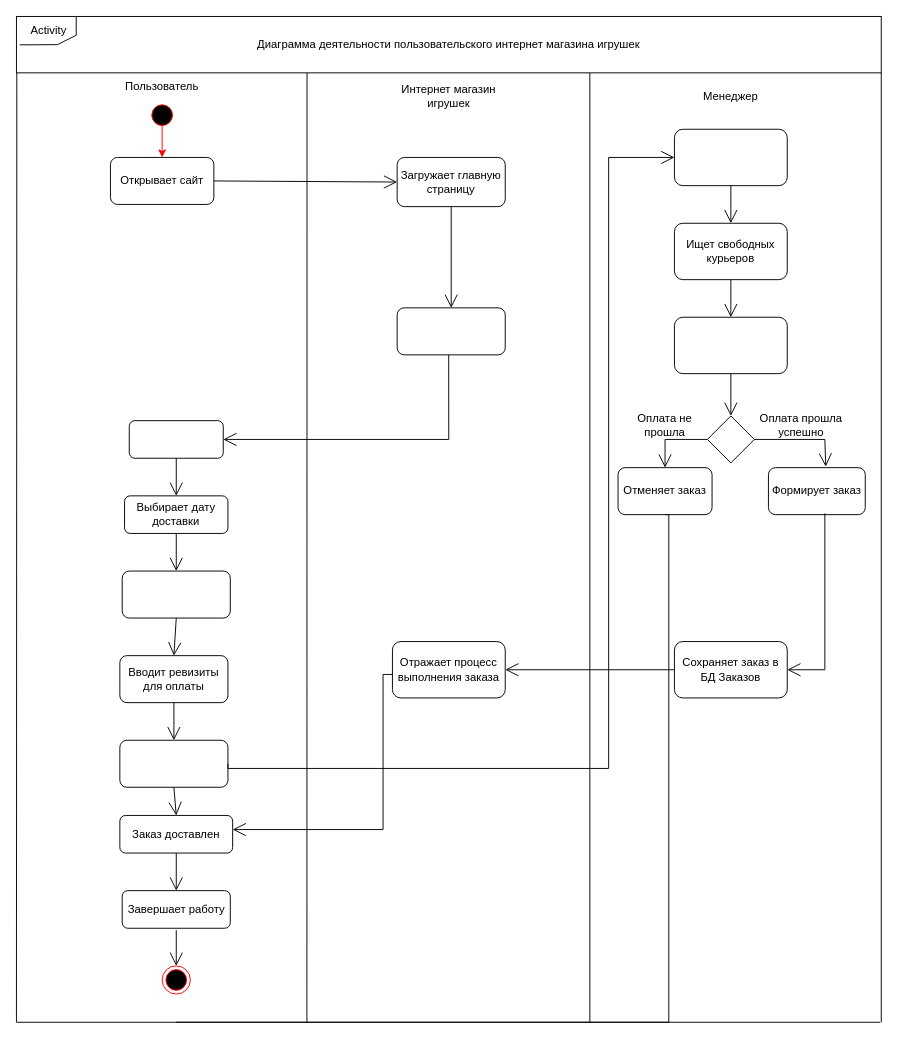
The diagram is 899 pixels wide and 1040 high, and some of its shapes have lost their labels. Here are the shapes that lost their labels. From the top down, the centre of each, then its label:
At point (730, 157): "Проверяет товары на наличие".
At point (450, 331): "Отображает каталог товаров".
At point (730, 345): "Обрабатывает оплату".
At point (175, 439): "Добавляет товар в корзину".
At point (175, 594): "Выбирает адресс доставки".
At point (173, 763): "Подтверждает оплату".
